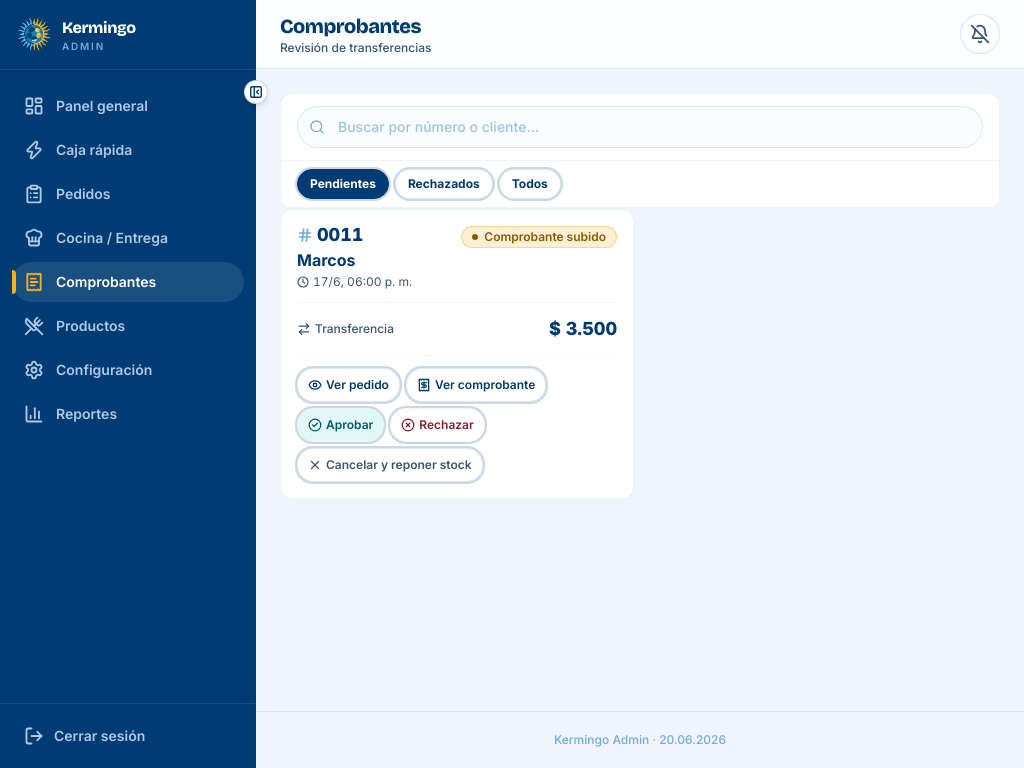
Test: ComprobantesScreen › shows separate actions: Ver pedido and Ver comprobante
Expected: the button "Ver pedido" is shown, top-left (297, 368), bottom-right (400, 402)
Click the button "Ver comprobante" at (476,385), box top-left (406, 368), bottom-right (546, 402)
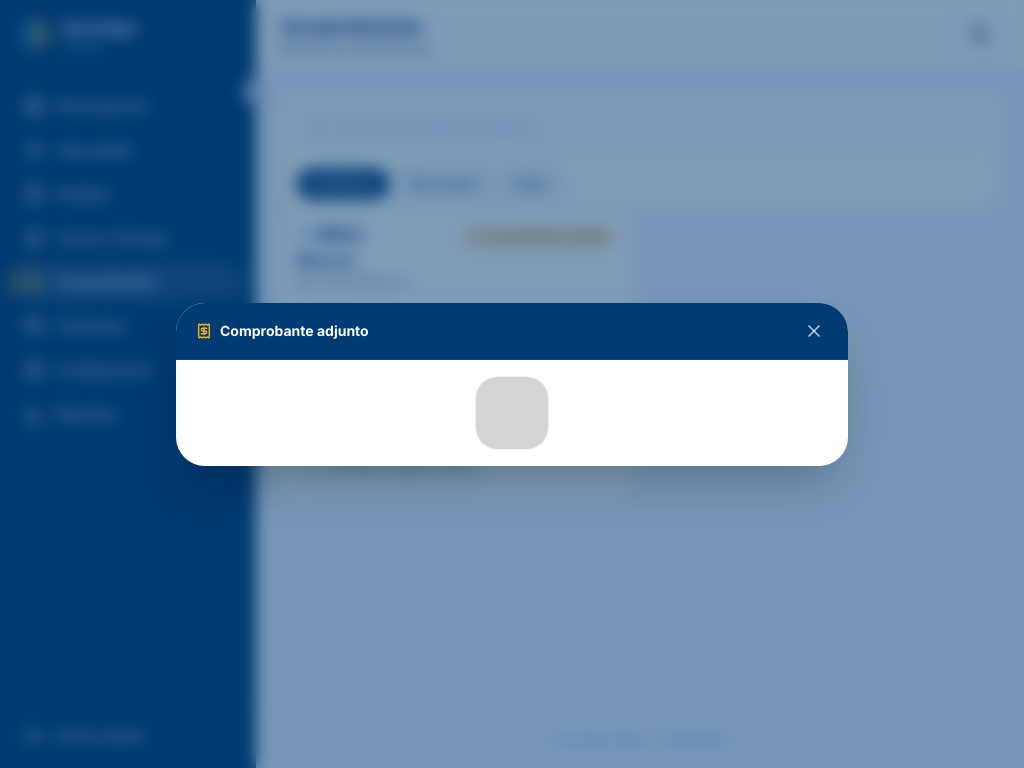
Result: the heading "Comprobante adjunto" is shown at top-left (220, 320), bottom-right (369, 340)
